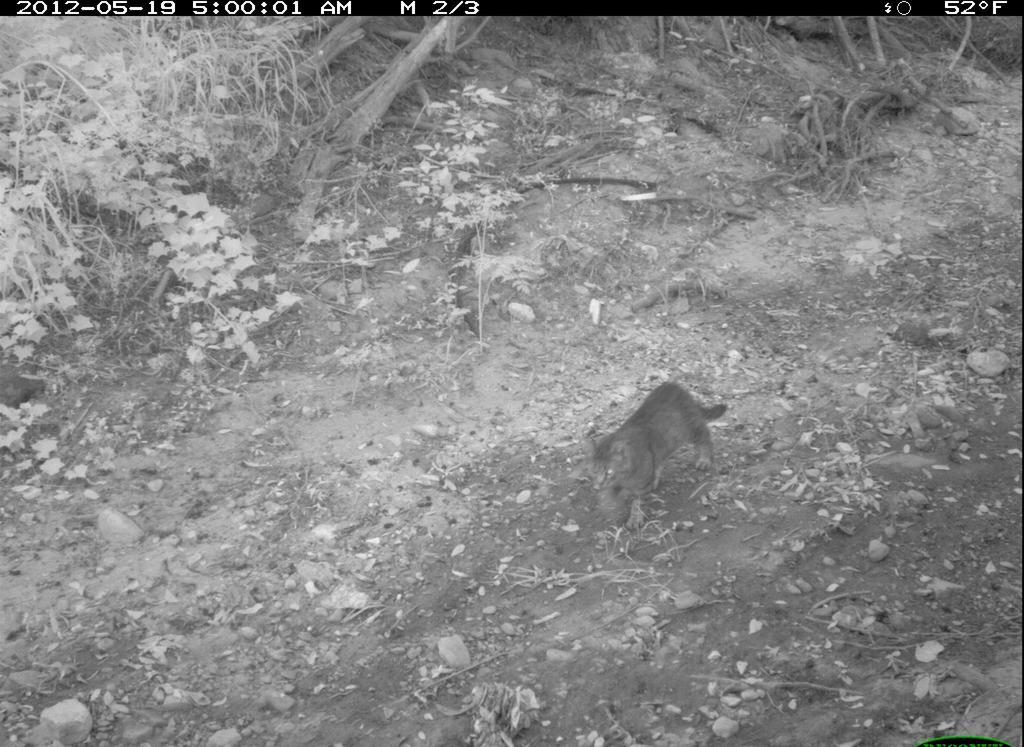cat: (575, 379, 756, 542)
